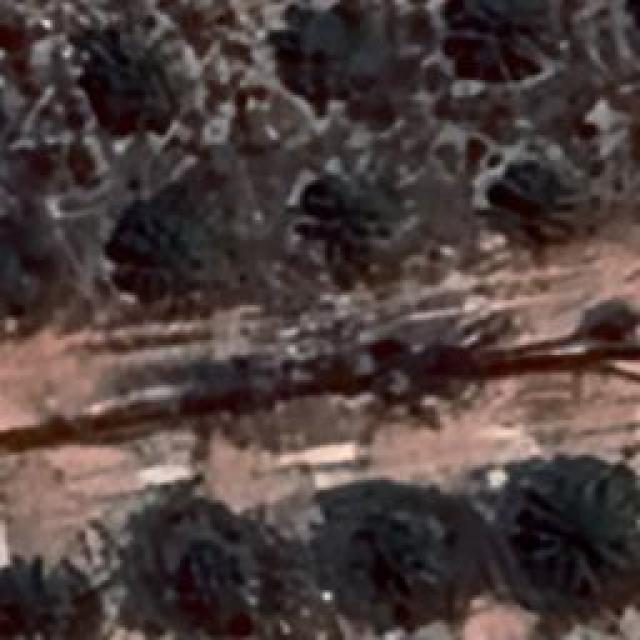PalmTree: (41, 70, 82, 602), (530, 480, 635, 590), (108, 190, 210, 298), (356, 506, 454, 604), (498, 164, 586, 272), (302, 175, 396, 275), (445, 0, 550, 80), (82, 44, 182, 128), (284, 18, 366, 92), (184, 546, 258, 624), (0, 91, 33, 220), (21, 95, 42, 273)
